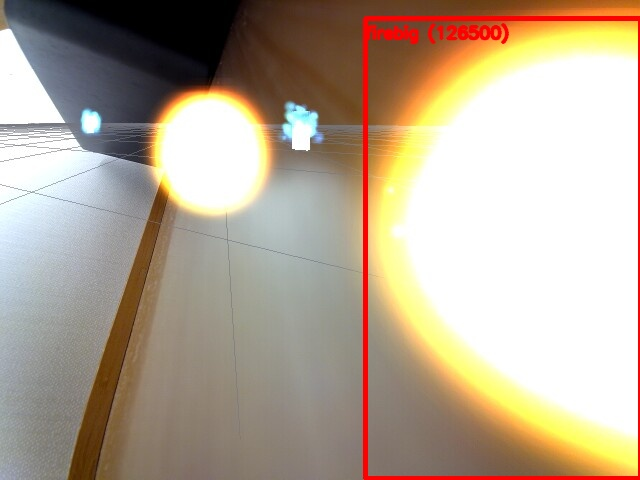firebig: (365, 18, 640, 478)
